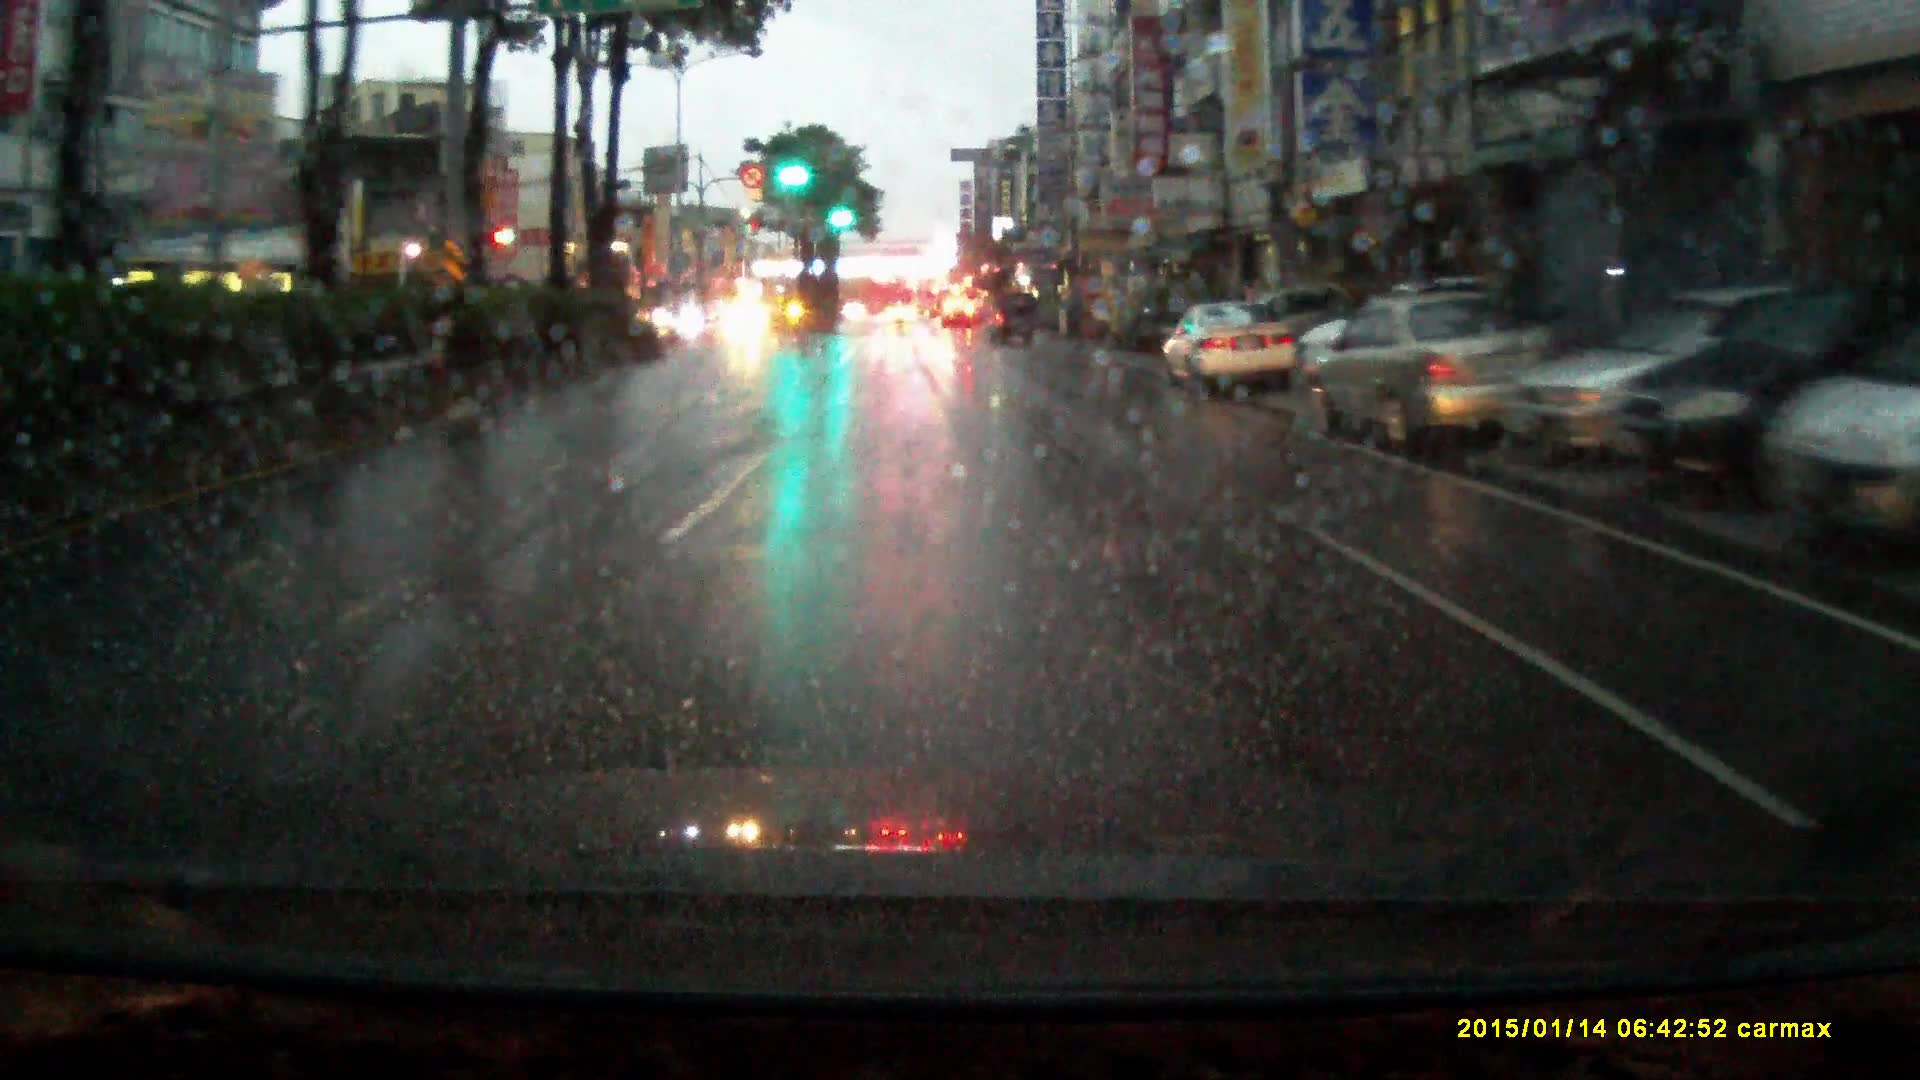vehicle: (1621, 291, 1898, 502), (1507, 301, 1764, 469), (1302, 297, 1572, 452), (1778, 344, 1920, 553), (1160, 297, 1300, 402), (717, 301, 774, 351), (989, 298, 1039, 345), (914, 280, 942, 322), (943, 298, 976, 328), (886, 305, 918, 326)
